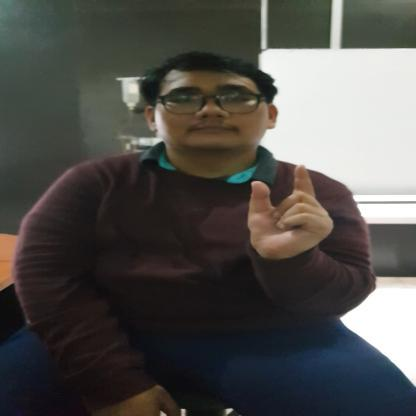U: (244, 164, 335, 260)
